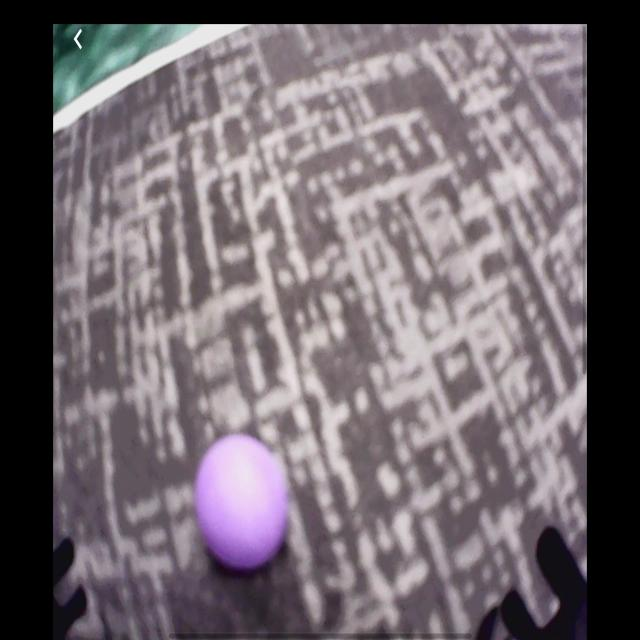ball: (195, 437, 290, 576)
